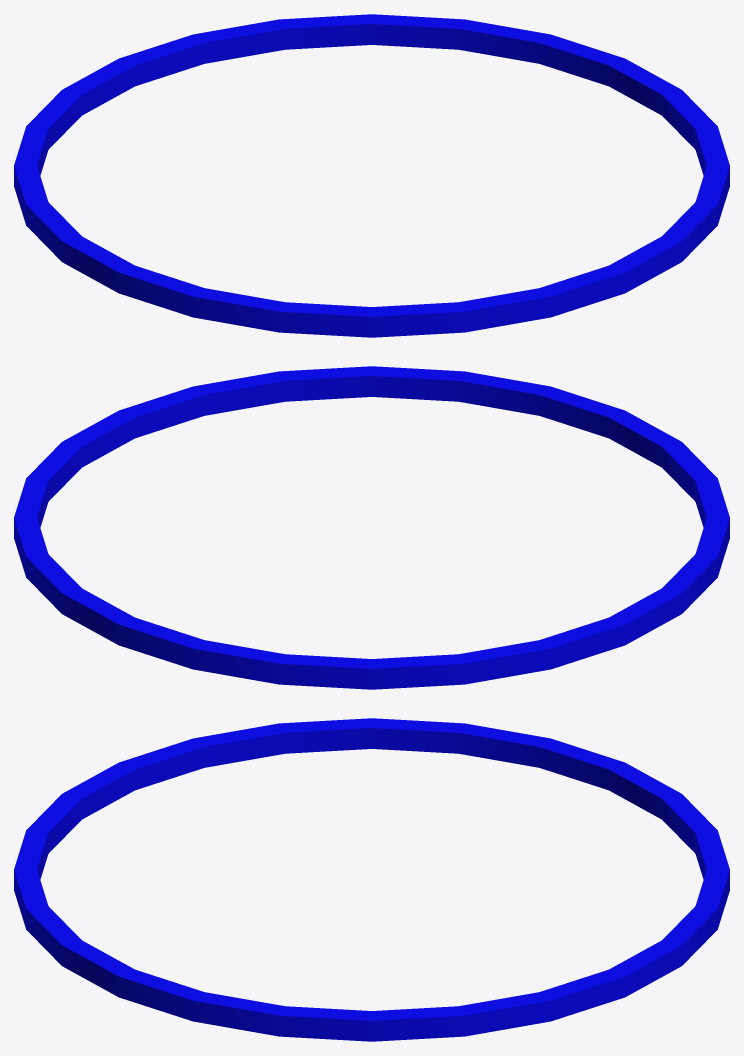
The model's file is blue_gimbal.dae.
The picture shows the model from 3 angles, top to bottom: view 1: azimuth 30°, elevation 25°; view 2: azimuth 150°, elevation 25°; view 3: azimuth 270°, elevation 25°; orthographic projection.
Visible parts, largest first — view 1: SketchUp (×2); view 2: SketchUp (×2); view 3: SketchUp (×2).
Part boxes in pixels (bbox=[...]): SketchUp (×2): bbox=[14, 14, 729, 337]; SketchUp (×2): bbox=[14, 366, 729, 689]; SketchUp (×2): bbox=[14, 718, 729, 1041].
Size of the model in its own units: 244 by 244 by 7.87.
